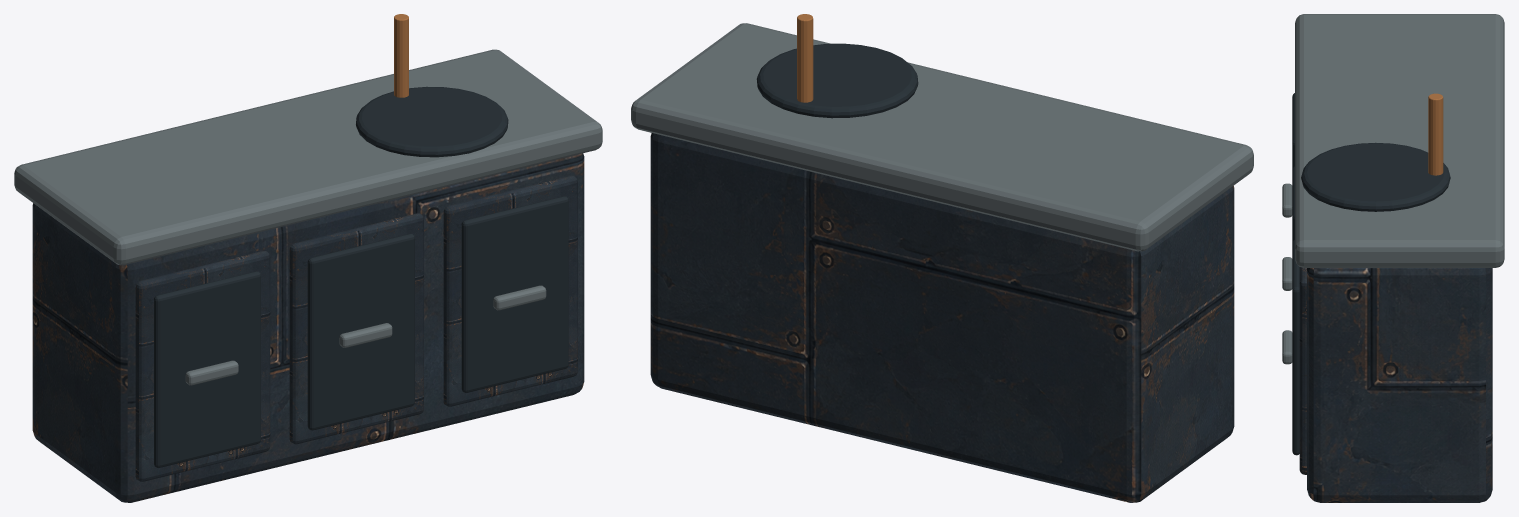
File: APT_Cabinet_Base_Kitchen.glb
3 views of the same model, side by side, from view 1: azimuth 30°, elevation 25°; view 2: azimuth 150°, elevation 25°; view 3: azimuth 270°, elevation 25° (orthographic). The views are drawn at different scales.
Visible parts, largest first — view 1: APT_Cabinet_Base_Kitchen_Counter, APT_Cabinet_Base_Kitchen_Body, APT_Cabinet_Base_Kitchen_Front_2_Inset, APT_Cabinet_Base_Kitchen_Front_1_Inset, APT_Cabinet_Base_Kitchen_Front_0_Inset, APT_Cabinet_Base_Kitchen_Front_0_Face, APT_Cabinet_Base_Kitchen_Front_2_Face, APT_Cabinet_Base_Kitchen_Front_1_Face, APT_Cabinet_Base_Kitchen_Sink, APT_Cabinet_Base_Kitchen_Faucet, APT_Cabinet_Base_Kitchen_Front_2_Handle, APT_Cabinet_Base_Kitchen_Front_0_Handle (+1 smaller); view 2: APT_Cabinet_Base_Kitchen_Body, APT_Cabinet_Base_Kitchen_Counter, APT_Cabinet_Base_Kitchen_Sink, APT_Cabinet_Base_Kitchen_Faucet; view 3: APT_Cabinet_Base_Kitchen_Counter, APT_Cabinet_Base_Kitchen_Body, APT_Cabinet_Base_Kitchen_Sink, APT_Cabinet_Base_Kitchen_Front_2_Face, APT_Cabinet_Base_Kitchen_Front_2_Inset, APT_Cabinet_Base_Kitchen_Faucet, APT_Cabinet_Base_Kitchen_Front_0_Handle, APT_Cabinet_Base_Kitchen_Front_2_Handle, APT_Cabinet_Base_Kitchen_Front_1_Handle.
Boxes of the visible parts, x1,y1,x2,y2 form: APT_Cabinet_Base_Kitchen_Counter: [14, 49, 602, 265]; APT_Cabinet_Base_Kitchen_Body: [32, 153, 584, 502]; APT_Cabinet_Base_Kitchen_Front_2_Inset: [461, 196, 568, 392]; APT_Cabinet_Base_Kitchen_Front_1_Inset: [307, 233, 414, 430]; APT_Cabinet_Base_Kitchen_Front_0_Inset: [154, 271, 260, 467]; APT_Cabinet_Base_Kitchen_Front_0_Face: [135, 251, 270, 481]; APT_Cabinet_Base_Kitchen_Front_2_Face: [443, 175, 577, 406]; APT_Cabinet_Base_Kitchen_Front_1_Face: [289, 213, 423, 444]; APT_Cabinet_Base_Kitchen_Sink: [356, 86, 508, 157]; APT_Cabinet_Base_Kitchen_Faucet: [394, 14, 408, 97]; APT_Cabinet_Base_Kitchen_Front_2_Handle: [493, 285, 546, 310]; APT_Cabinet_Base_Kitchen_Front_0_Handle: [185, 360, 238, 385]; APT_Cabinet_Base_Kitchen_Body: [650, 133, 1234, 502]; APT_Cabinet_Base_Kitchen_Counter: [631, 23, 1253, 251]; APT_Cabinet_Base_Kitchen_Sink: [756, 43, 918, 118]; APT_Cabinet_Base_Kitchen_Faucet: [797, 14, 813, 102]; APT_Cabinet_Base_Kitchen_Counter: [1295, 14, 1504, 267]; APT_Cabinet_Base_Kitchen_Body: [1307, 268, 1492, 502]; APT_Cabinet_Base_Kitchen_Sink: [1301, 142, 1450, 211]; APT_Cabinet_Base_Kitchen_Front_2_Face: [1299, 267, 1306, 474]; APT_Cabinet_Base_Kitchen_Front_2_Inset: [1292, 240, 1299, 455]; APT_Cabinet_Base_Kitchen_Faucet: [1428, 93, 1443, 175]; APT_Cabinet_Base_Kitchen_Front_0_Handle: [1282, 183, 1292, 217]; APT_Cabinet_Base_Kitchen_Front_2_Handle: [1282, 330, 1292, 364]; APT_Cabinet_Base_Kitchen_Front_1_Handle: [1282, 257, 1292, 290].
Size of the model in its own units: 1.84 by 1.3 by 0.7425.
4 materials, 1 textured.
